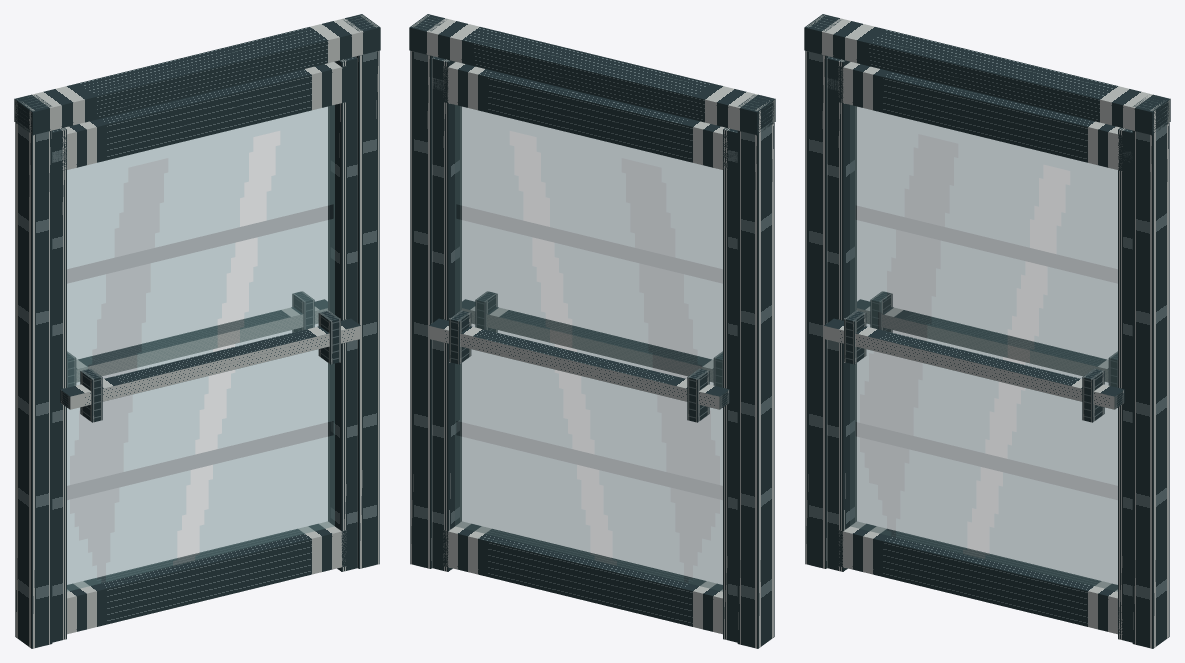
Rendered from puerta_cristal_antipanico.glb.
3 views of the same model, side by side, from view 1: azimuth 30°, elevation 25°; view 2: azimuth 150°, elevation 25°; view 3: azimuth 330°, elevation 25° (orthographic).
Parts seen in each view (by area): view 1: HOJA_VIDRIO_A, HOJA_MARCO_A, MARCO_FIJO; view 2: HOJA_VIDRIO_A, HOJA_MARCO_A, MARCO_FIJO; view 3: HOJA_VIDRIO_A, HOJA_MARCO_A, MARCO_FIJO.
Part boxes in pixels (left/top/right/bottom): HOJA_VIDRIO_A: left=67, top=105, right=334, bottom=591; HOJA_MARCO_A: left=52, top=56, right=360, bottom=642; MARCO_FIJO: left=14, top=14, right=380, bottom=648; HOJA_VIDRIO_A: left=455, top=105, right=722, bottom=591; HOJA_MARCO_A: left=429, top=56, right=737, bottom=642; MARCO_FIJO: left=409, top=14, right=775, bottom=648; HOJA_VIDRIO_A: left=850, top=105, right=1117, bottom=591; HOJA_MARCO_A: left=824, top=56, right=1132, bottom=642; MARCO_FIJO: left=804, top=14, right=1170, bottom=648.
Size of the model in its own units: 1.52 by 2.25 by 0.29.
2 materials, 2 textured.
